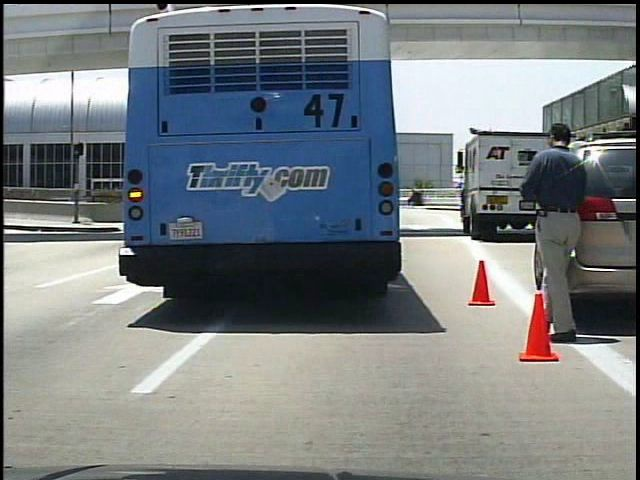person: (519, 116, 599, 344)
